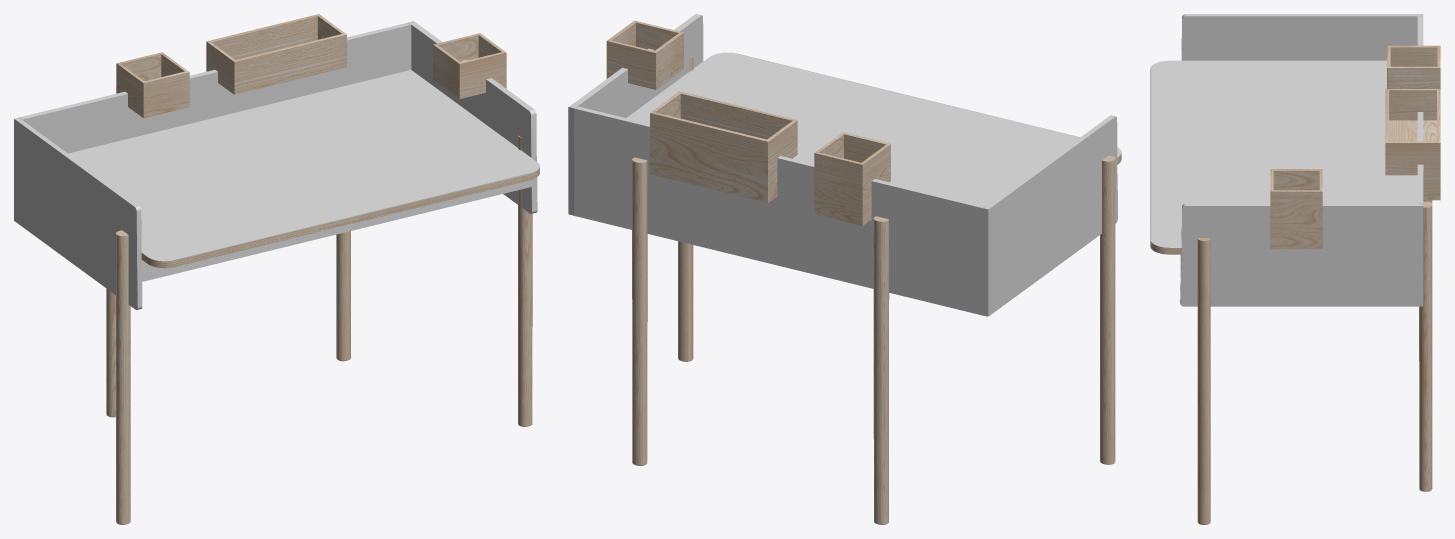
File: brook_study_desk.gltf
3 views of the same model, side by side, from view 1: azimuth 30°, elevation 25°; view 2: azimuth 150°, elevation 25°; view 3: azimuth 270°, elevation 25° (orthographic). The views are drawn at different scales.
Visible parts, largest first — view 1: brook; view 2: brook; view 3: brook.
Part boxes in pixels (<box>): brook: <box>14,14,539,524</box>; brook: <box>568,14,1121,524</box>; brook: <box>1150,14,1440,524</box>.
Bounding box in the file's own units: 1.07 × 0.8333 × 0.6481.
Materials: 1 (1 with a texture image).
